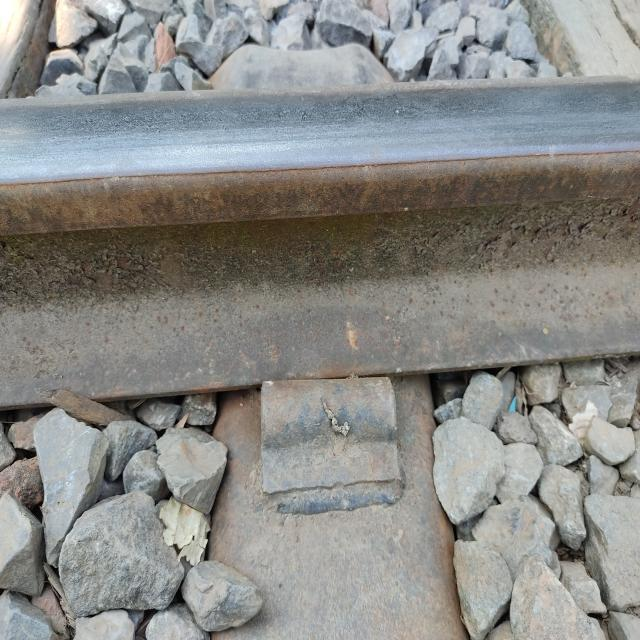Missing Fastener: (227, 353, 425, 511)
